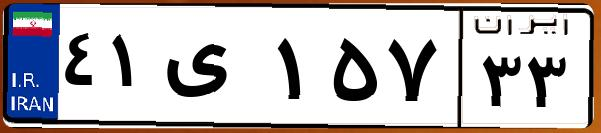1: (270, 28, 330, 110), (110, 28, 158, 98)
3: (475, 38, 525, 113), (525, 38, 570, 115)
4: (57, 26, 110, 100)
5: (330, 28, 385, 110)
7: (385, 28, 445, 110)
ی: (158, 20, 270, 120)
